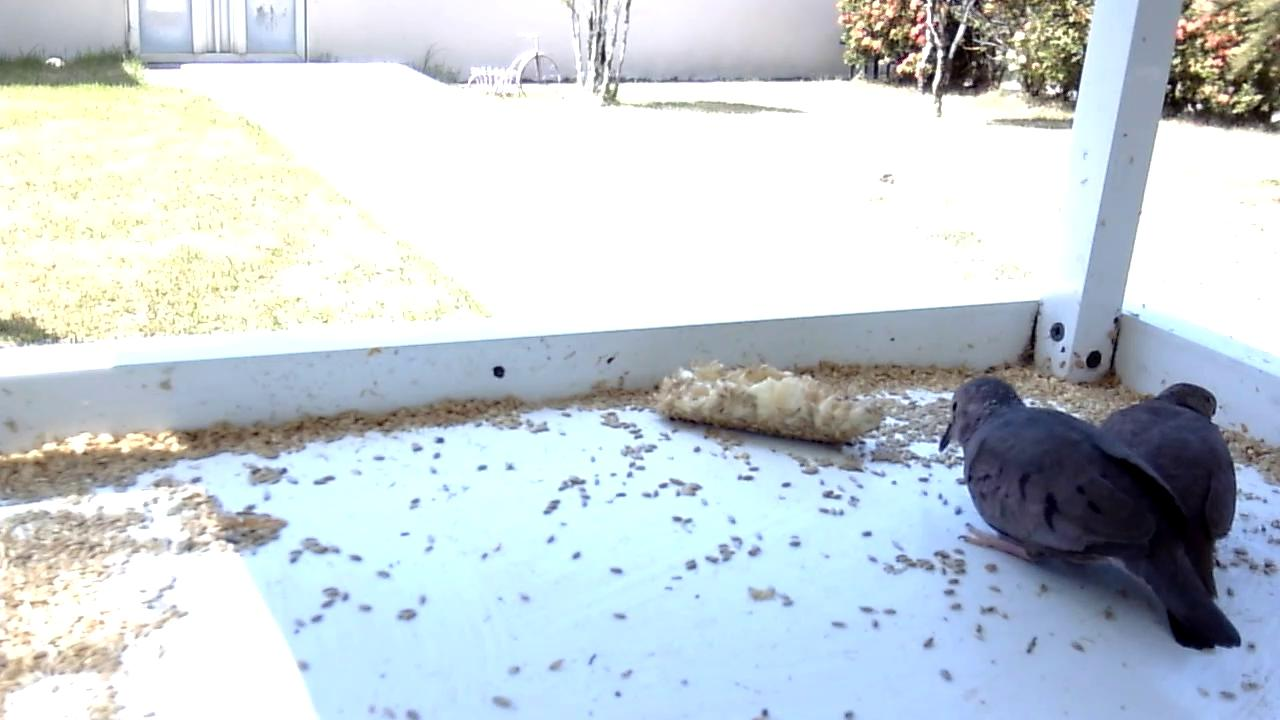rolinha: (938, 375, 1244, 653), (1102, 382, 1244, 598)
